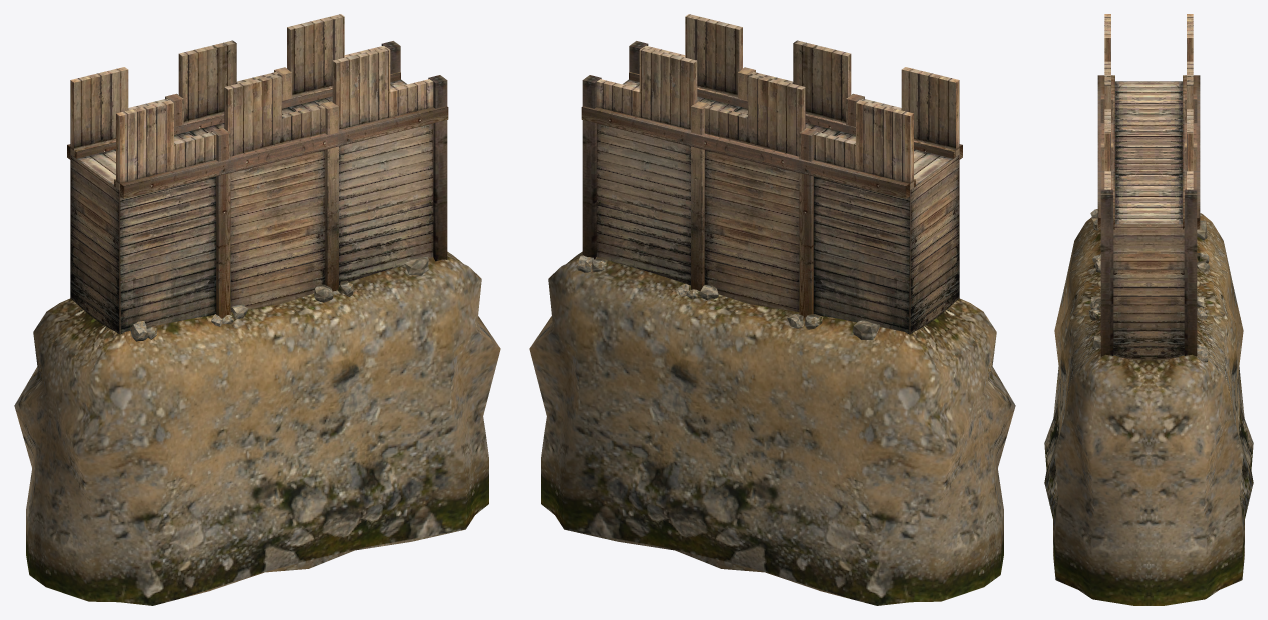
Rendered from s_romans_siege_wall_short.glb.
The picture shows the model from 3 angles, left to right: view 1: azimuth 30°, elevation 25°; view 2: azimuth 150°, elevation 25°; view 3: azimuth 270°, elevation 25°; orthographic projection. The views are drawn at different scales.
Parts seen in each view (by area): view 1: s_romans_siege_wall_short_part1, s_romans_siege_wall_short_part0; view 2: s_romans_siege_wall_short_part1, s_romans_siege_wall_short_part0; view 3: s_romans_siege_wall_short_part1, s_romans_siege_wall_short_part0.
Boxes of the visible parts, bbox=[...] form: s_romans_siege_wall_short_part1: bbox=[14, 251, 500, 605]; s_romans_siege_wall_short_part0: bbox=[67, 14, 448, 334]; s_romans_siege_wall_short_part1: bbox=[529, 251, 1015, 605]; s_romans_siege_wall_short_part0: bbox=[581, 14, 962, 334]; s_romans_siege_wall_short_part1: bbox=[1044, 209, 1253, 605]; s_romans_siege_wall_short_part0: bbox=[1097, 14, 1200, 360].
Size of the model in its own units: 4.06 by 4.17 by 1.85.
2 materials, 2 textured.
